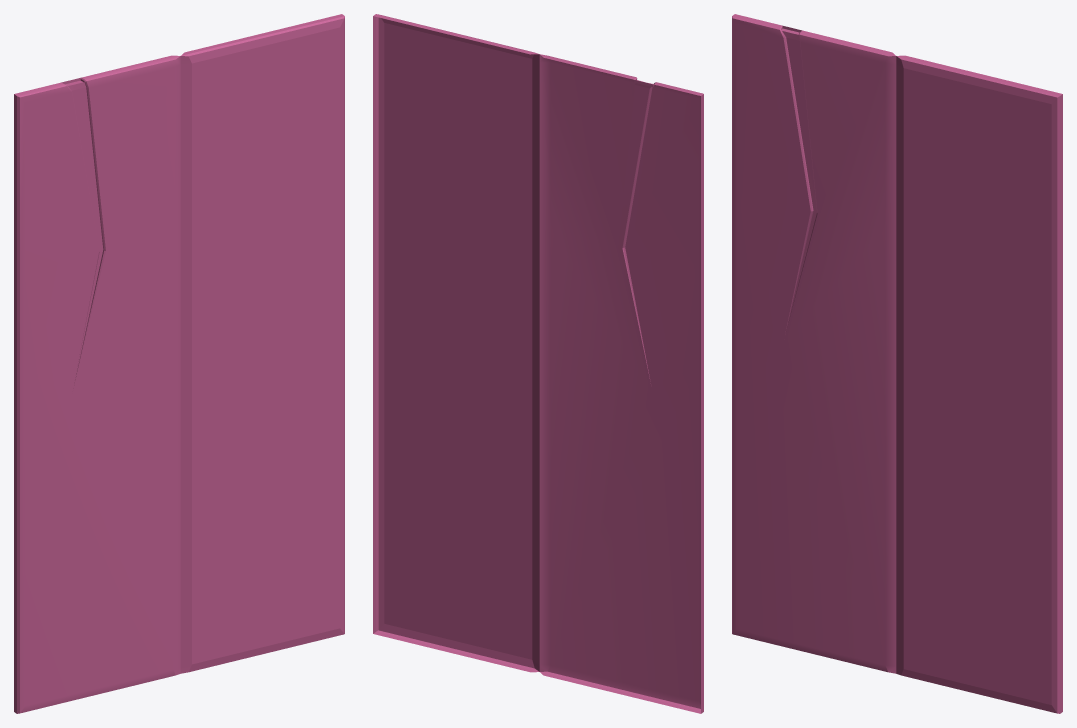
The model's file is WallPanelCracked_Model_v03.fbx.
The picture shows the model from 3 angles, left to right: view 1: azimuth 30°, elevation 25°; view 2: azimuth 150°, elevation 25°; view 3: azimuth 330°, elevation 25°; orthographic projection.
Visible parts, largest first — view 1: pPlane16; view 2: pPlane16; view 3: pPlane16.
Boxes of the visible parts, box(x1,y1,x2,y2) form: pPlane16: box(14, 14, 344, 713); pPlane16: box(373, 14, 703, 713); pPlane16: box(732, 14, 1062, 713).
Size of the model in its own units: 200 by 360 by 4.86.
Materials: 1 (1 with a texture image).
